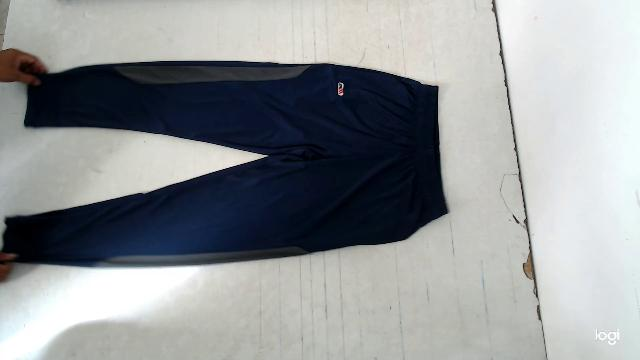new-garment: (3, 61, 447, 266)
